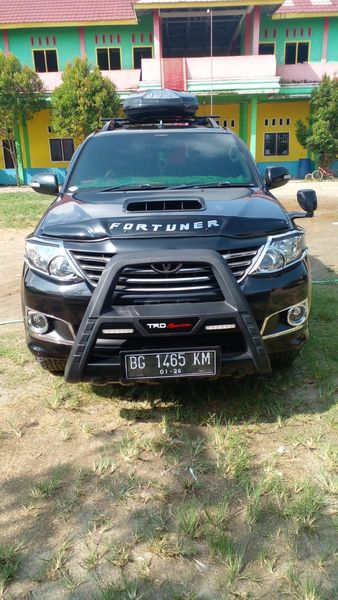plate: (121, 350, 224, 378)
